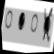correct: (15, 9, 27, 32)
not correct: (38, 5, 54, 45)
